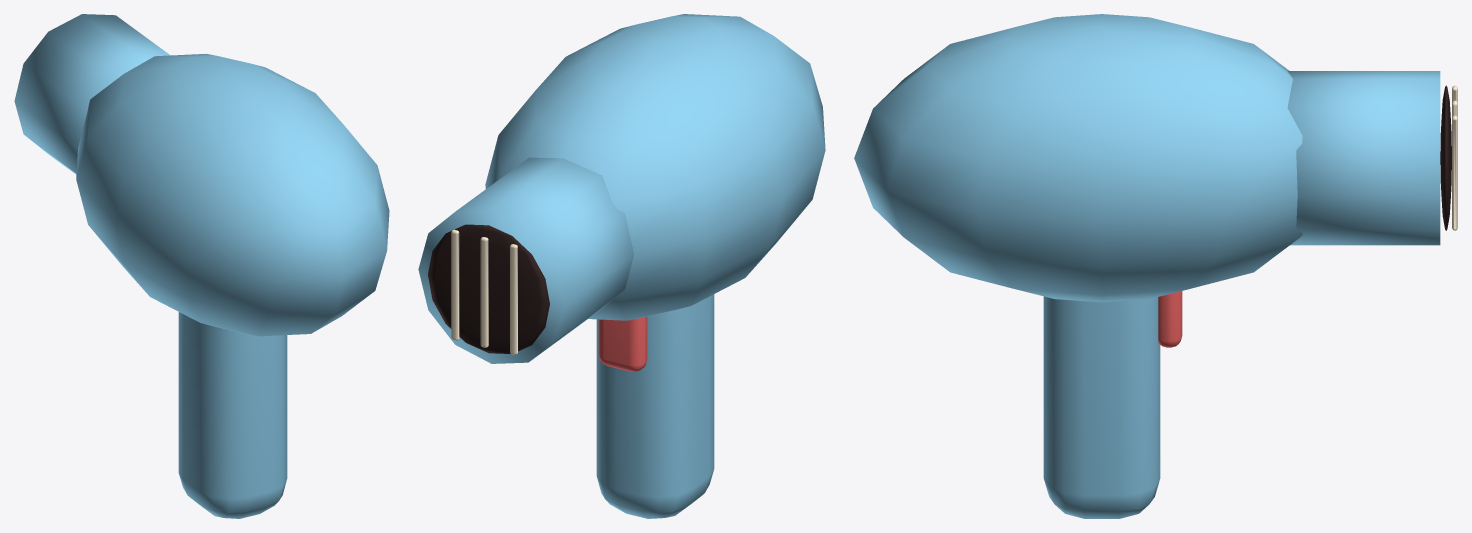
The model's file is dryer.glb.
3 views of the same model, side by side, from view 1: azimuth 30°, elevation 25°; view 2: azimuth 150°, elevation 25°; view 3: azimuth 270°, elevation 25° (orthographic). The views are drawn at different scales.
Visible parts, largest first — view 1: Dryer; view 2: Dryer; view 3: Dryer.
Boxes of the visible parts, x1,y1,x2,y2 form: Dryer: [14, 14, 389, 518]; Dryer: [418, 14, 825, 518]; Dryer: [854, 14, 1457, 518].
Bounding box in the file's own units: 0.104 × 0.182 × 0.207.
